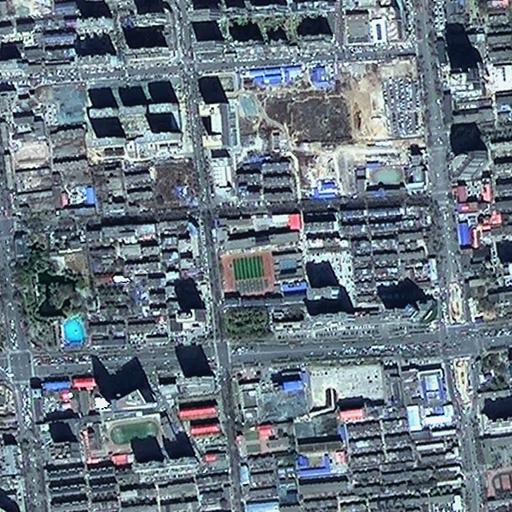school: (214, 213, 301, 308), (79, 388, 176, 452), (354, 163, 411, 197)
